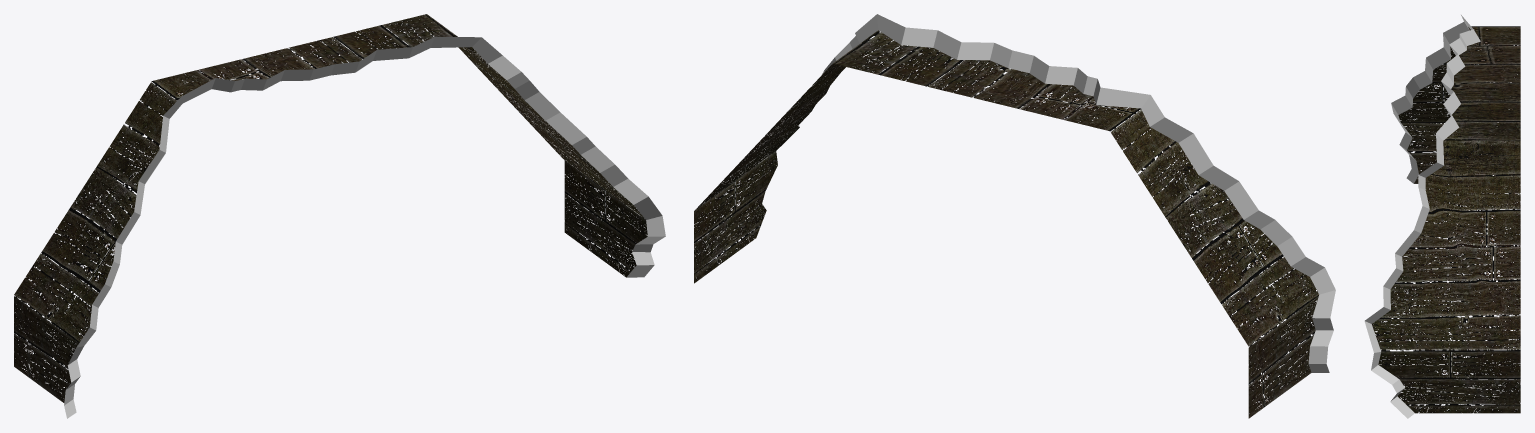
The model's file is arched_wooden_roof_broken.dae.
3 renders of one model, left to right at view 1: azimuth 30°, elevation 25°; view 2: azimuth 150°, elevation 25°; view 3: azimuth 270°, elevation 25°, orthographic. The views are drawn at different scales.
Visible parts, largest first — view 1: polySurface130, polySurface131; view 2: polySurface130, polySurface131; view 3: polySurface130, polySurface131.
Boxes of the visible parts, left/top/right/bottom form: polySurface130: left=14, top=14, right=647, bottom=402; polySurface131: left=64, top=36, right=665, bottom=418; polySurface130: left=694, top=30, right=1318, bottom=418; polySurface131: left=749, top=14, right=1335, bottom=372; polySurface130: left=1372, top=26, right=1520, bottom=413; polySurface131: left=1364, top=15, right=1480, bottom=418.
Bounding box in the file's own units: 4.2 × 1.85 × 1.15.
